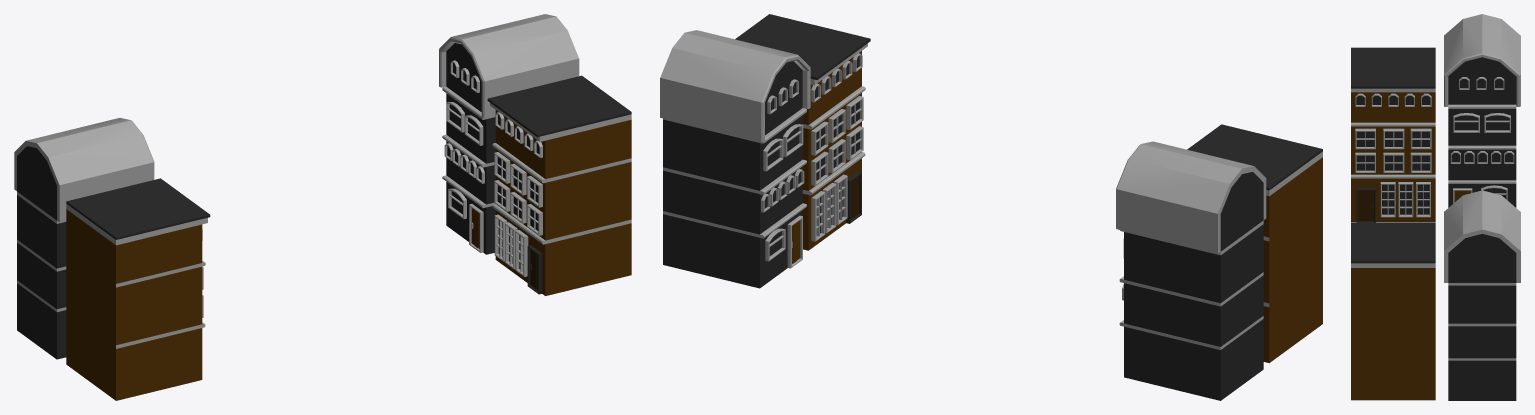
The model's file is House2.fbx.
The picture shows the model from 3 angles, left to right: view 1: azimuth 30°, elevation 25°; view 2: azimuth 150°, elevation 25°; view 3: azimuth 270°, elevation 25°; orthographic projection. The views are drawn at different scales.
Parts seen in each view (by area): view 1: polySurface7.001; view 2: polySurface7.001; view 3: polySurface7.001.
Part boxes in pixels (<box>): polySurface7.001: <box>14,14,631,400</box>; polySurface7.001: <box>660,14,1322,400</box>; polySurface7.001: <box>1351,14,1520,400</box>.
Size of the model in its own units: 3377 by 1253 by 1124.
